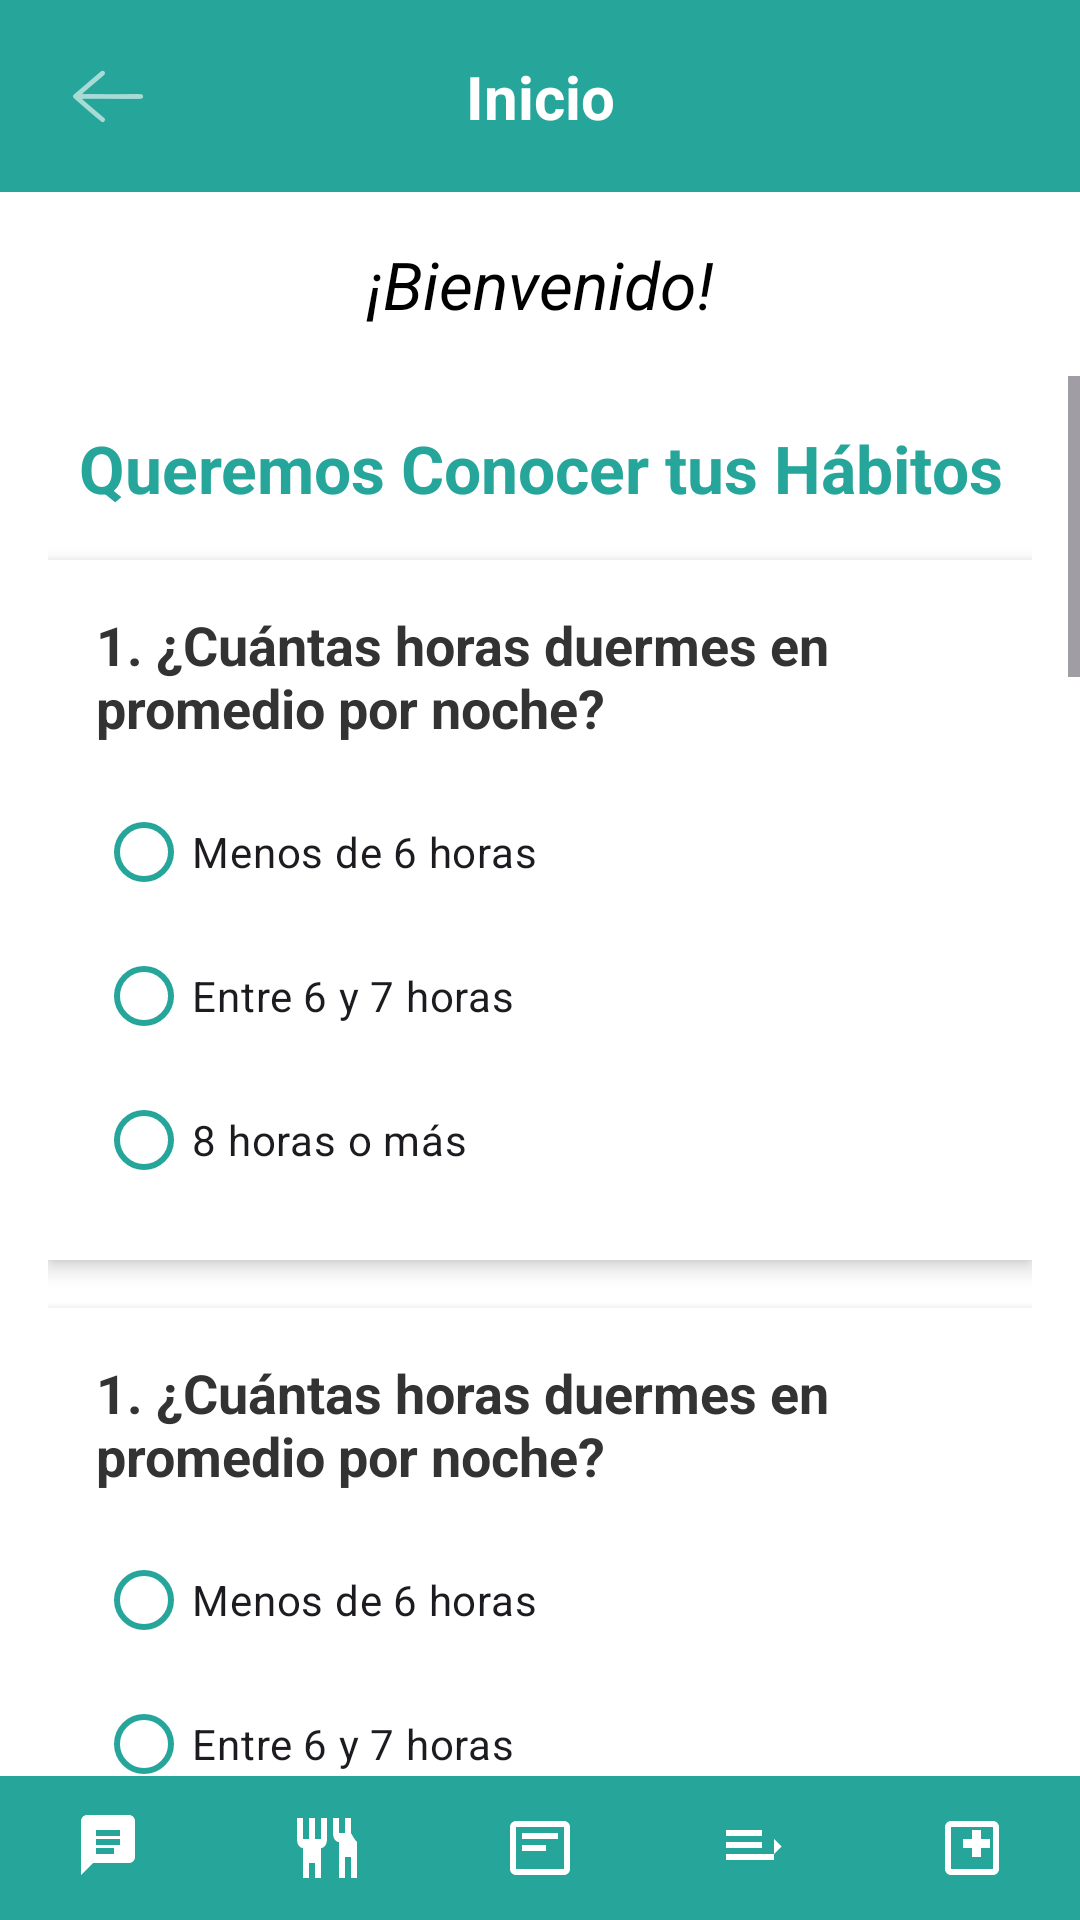

Named icons in this screenshot (1080*1920) and their centers, (x,y):
Botón para cerrar sesión y volver a Login: (108,96)
card: (540,1848)
comida: (327,1848)
lista: (754,1845)
